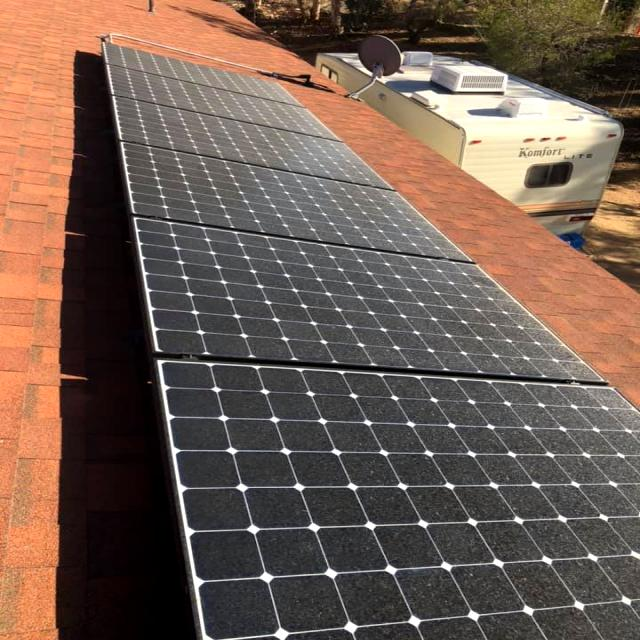dust: (368, 382, 620, 548), (172, 371, 344, 548), (366, 260, 588, 380), (258, 576, 640, 640), (171, 228, 317, 352), (218, 78, 350, 184), (278, 176, 418, 248)
